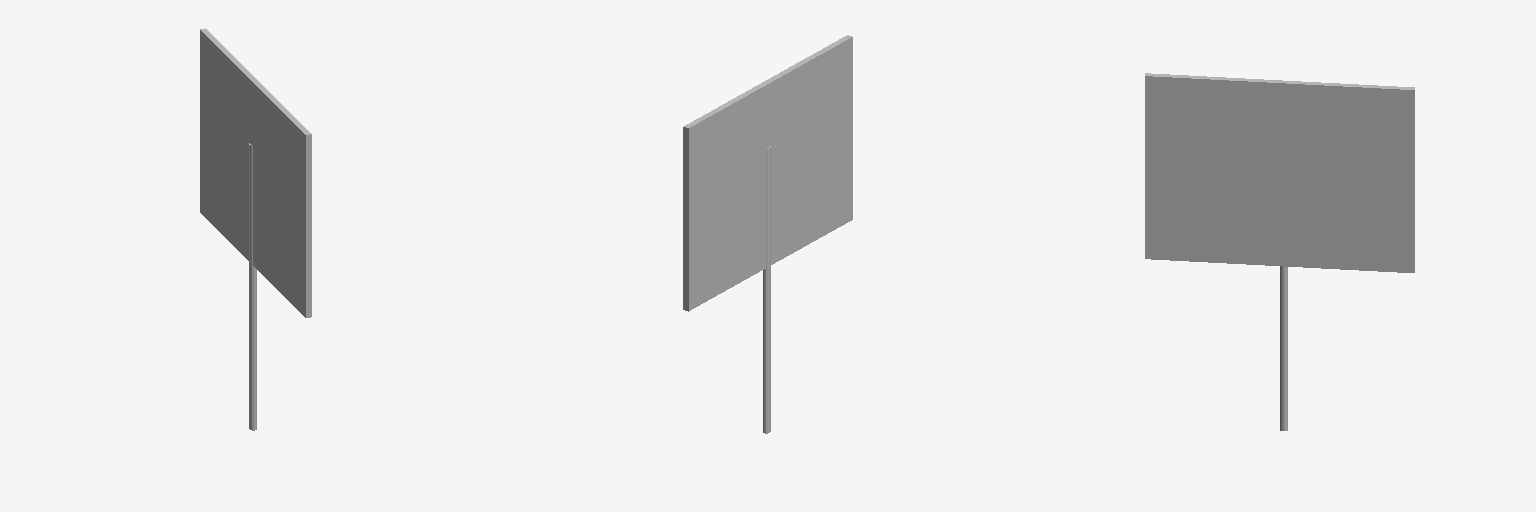
Rendered from board_24.obj.
The picture shows the model from 3 angles: view 1: azimuth 30°, elevation 25°; view 2: azimuth 150°, elevation 25°; view 3: azimuth 270°, elevation 25°; orthographic projection.
Visible parts, largest first — view 1: Cube.028_Cube.029, Cylinder.028; view 2: Cube.028_Cube.029, Cylinder.028; view 3: Cube.028_Cube.029, Cylinder.028.
Part boxes in pixels (left/top/right/bottom): Cube.028_Cube.029: left=200, top=28, right=311, bottom=317; Cylinder.028: left=249, top=143, right=256, bottom=430; Cube.028_Cube.029: left=683, top=35, right=852, bottom=311; Cylinder.028: left=763, top=146, right=770, bottom=433; Cube.028_Cube.029: left=1145, top=73, right=1414, bottom=272; Cylinder.028: left=1280, top=266, right=1287, bottom=430.
Bounding box in the file's own units: 0.018 × 0.1717 × 0.1209.